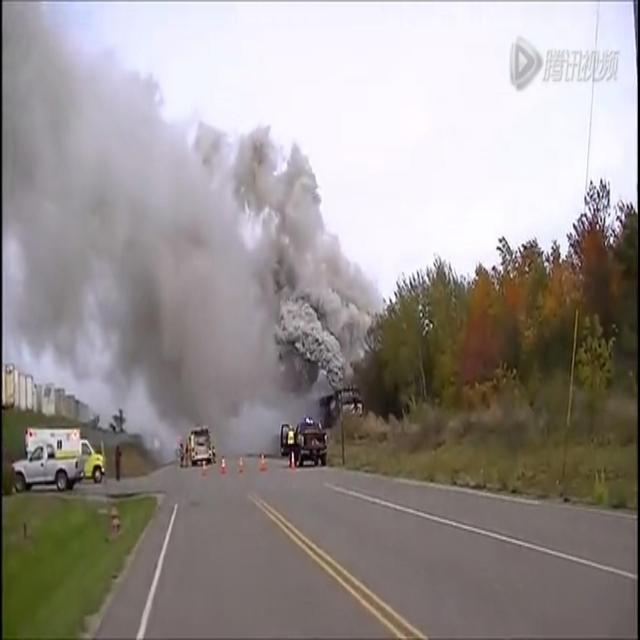Smoke: (2, 1, 386, 467)
